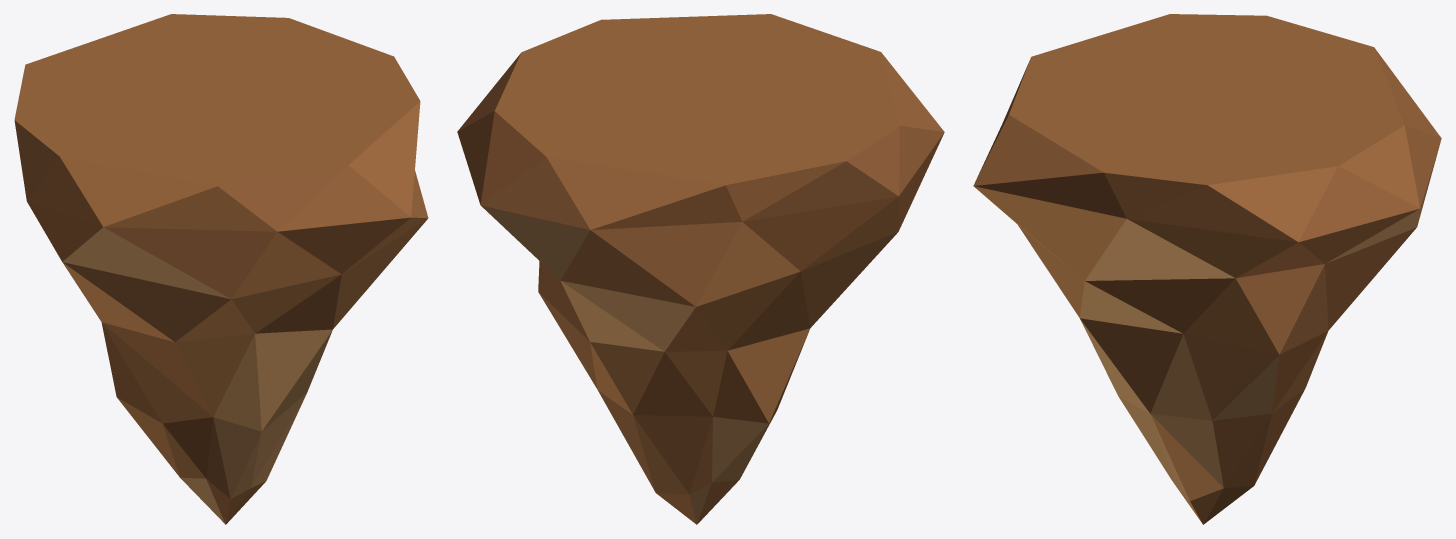
The model's file is rocha-inferior-avaliacao.glb.
3 views of the same model, side by side, from view 1: azimuth 30°, elevation 25°; view 2: azimuth 150°, elevation 25°; view 3: azimuth 270°, elevation 25° (orthographic). The views are drawn at different scales.
Visible parts, largest first — view 1: Rocha; view 2: Rocha; view 3: Rocha.
Part boxes in pixels (x1=…): Rocha: x1=14, y1=14, x2=428, y2=524; Rocha: x1=457, y1=14, x2=944, y2=524; Rocha: x1=973, y1=14, x2=1441, y2=524.
Size of the model in its own units: 1.95 by 2.05 by 2.06.
